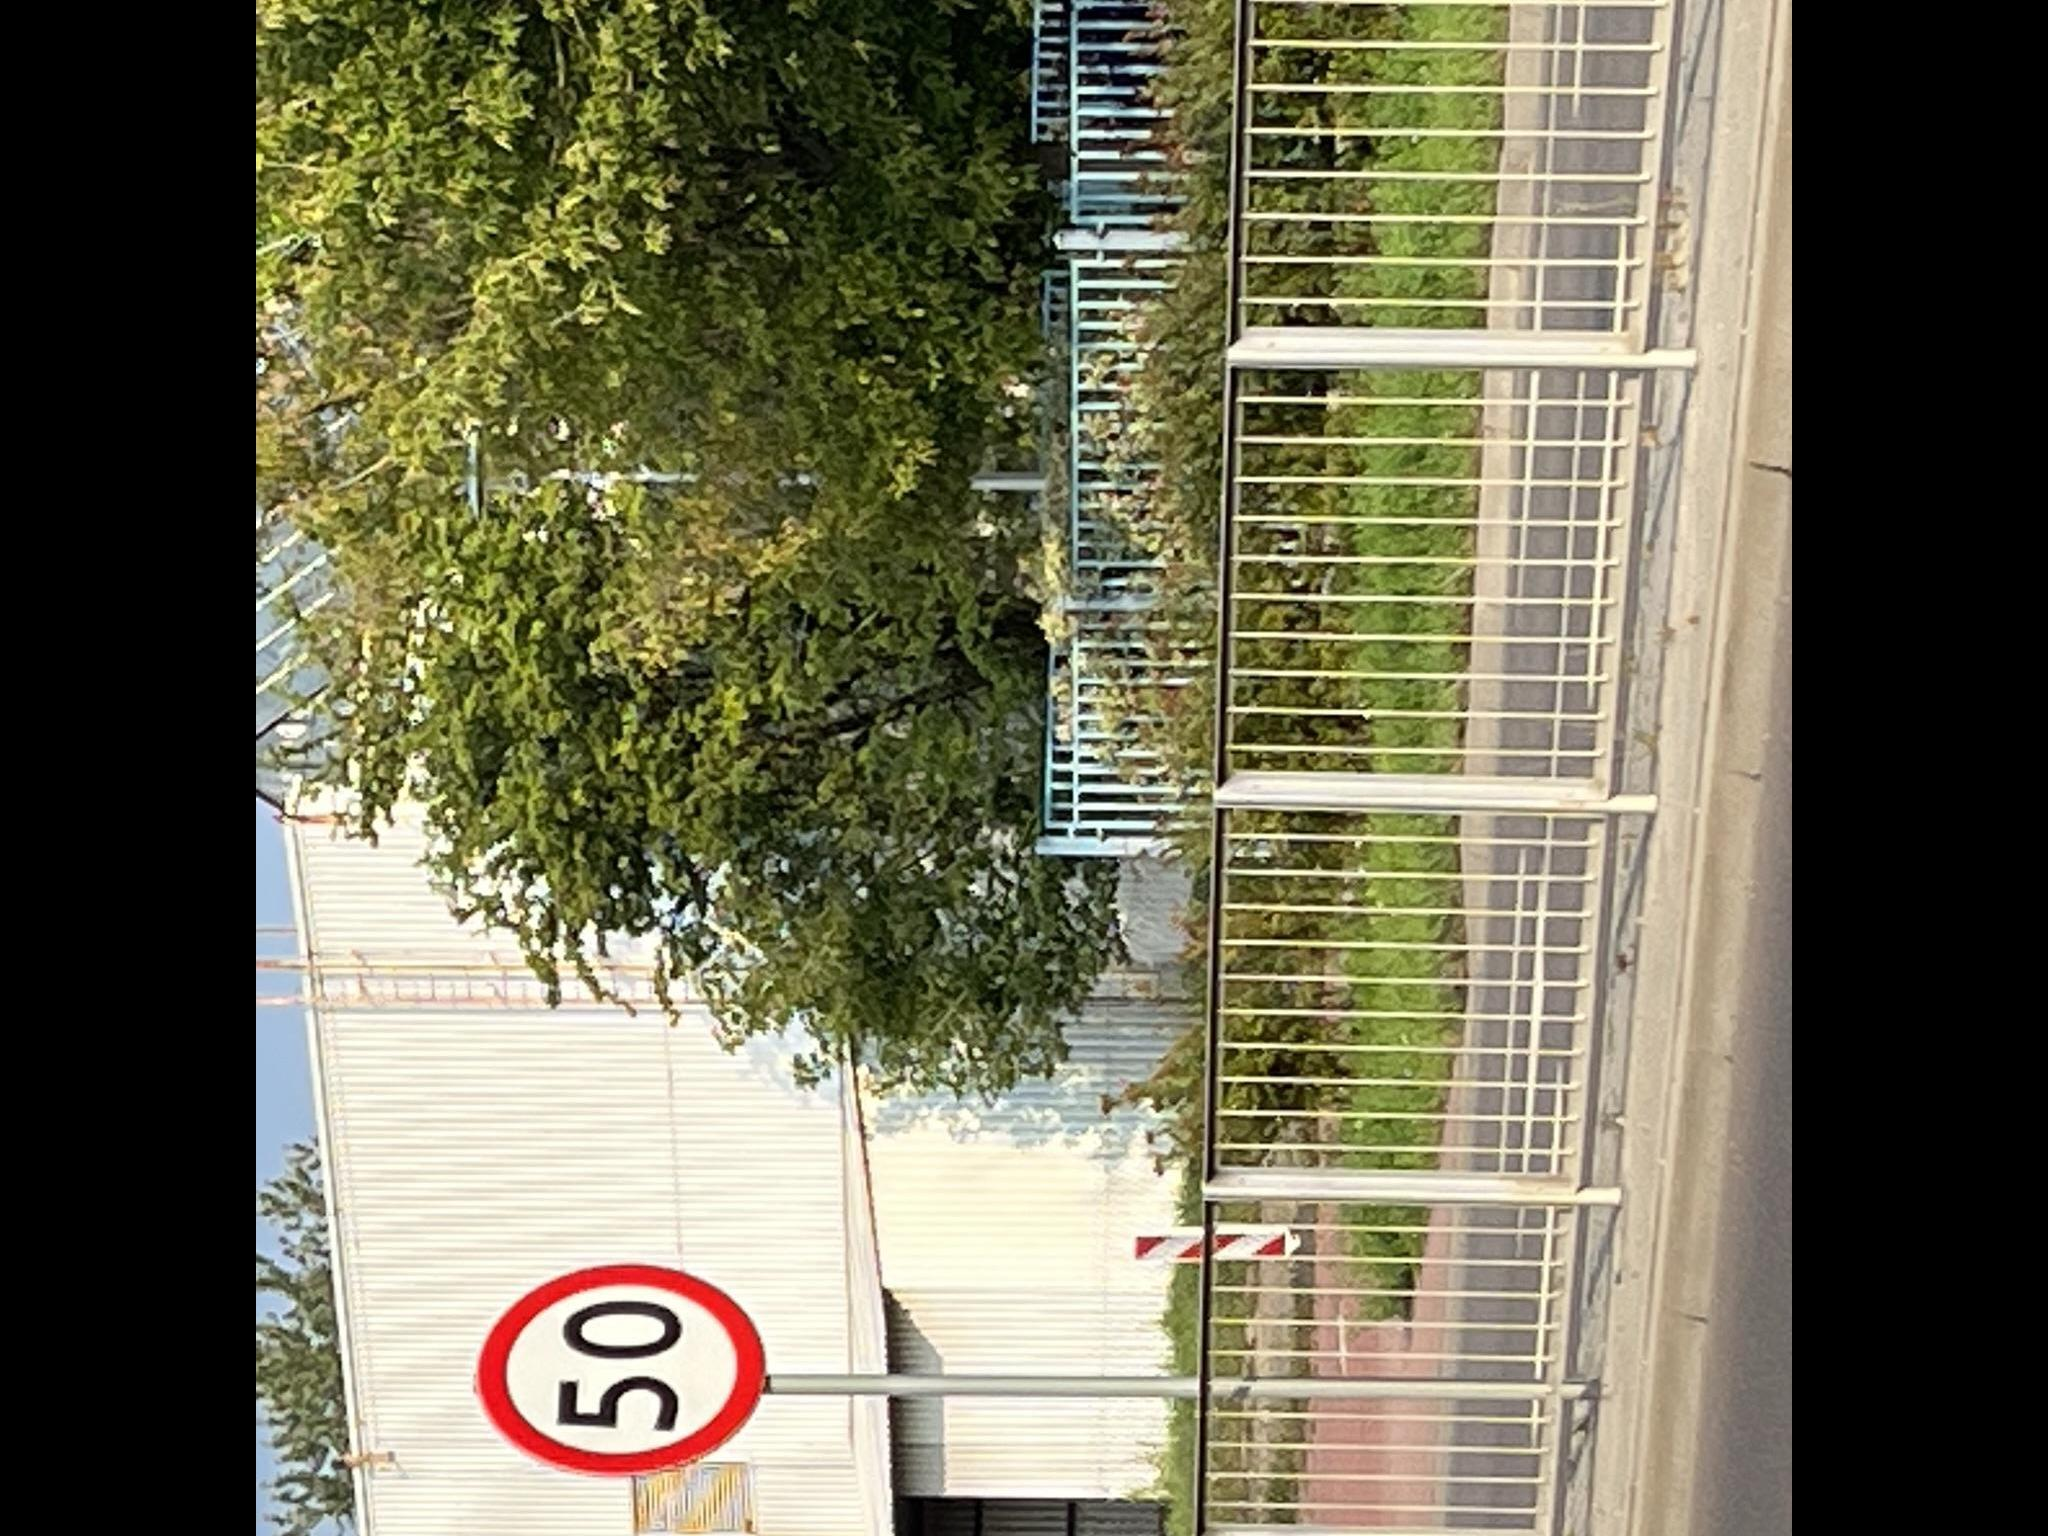prohibitory: (474, 1262, 771, 1475)
